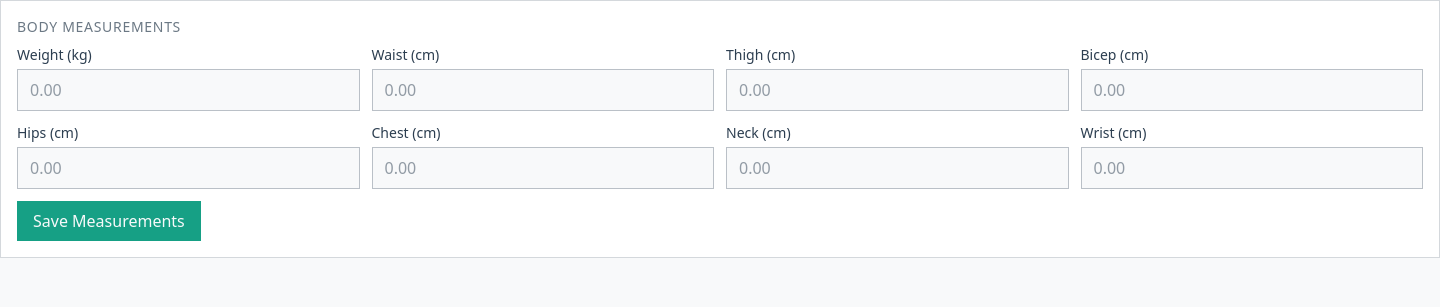
it: MeasurementLogger › uses human labels (not internal keys) in validation error messages
The image size is (1440, 307).
Type "5" into the number field labelled "Weight (kg)".
click(188, 90); type("5")  # box x1=17 y1=69 x2=360 y2=111
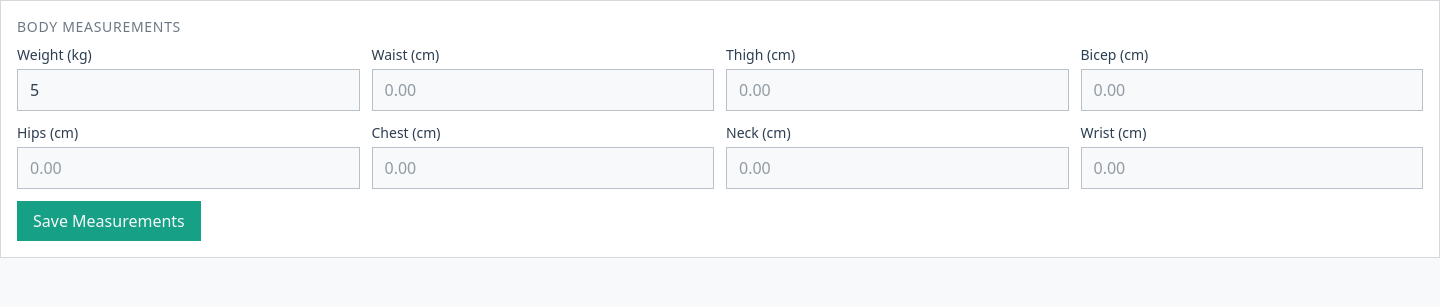
Click the button "Save Measurements".
click(109, 221)  # box x1=17 y1=201 x2=201 y2=241
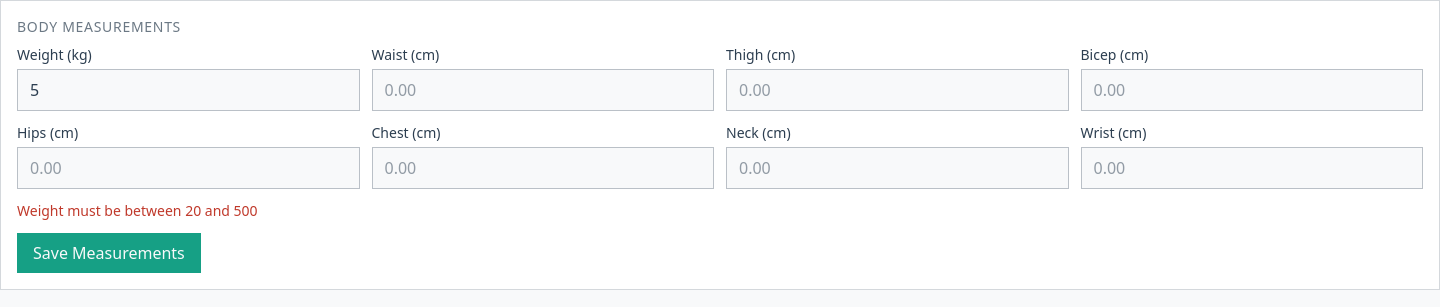
Now the message shows "Weight", box x1=17 y1=201 x2=258 y2=220
